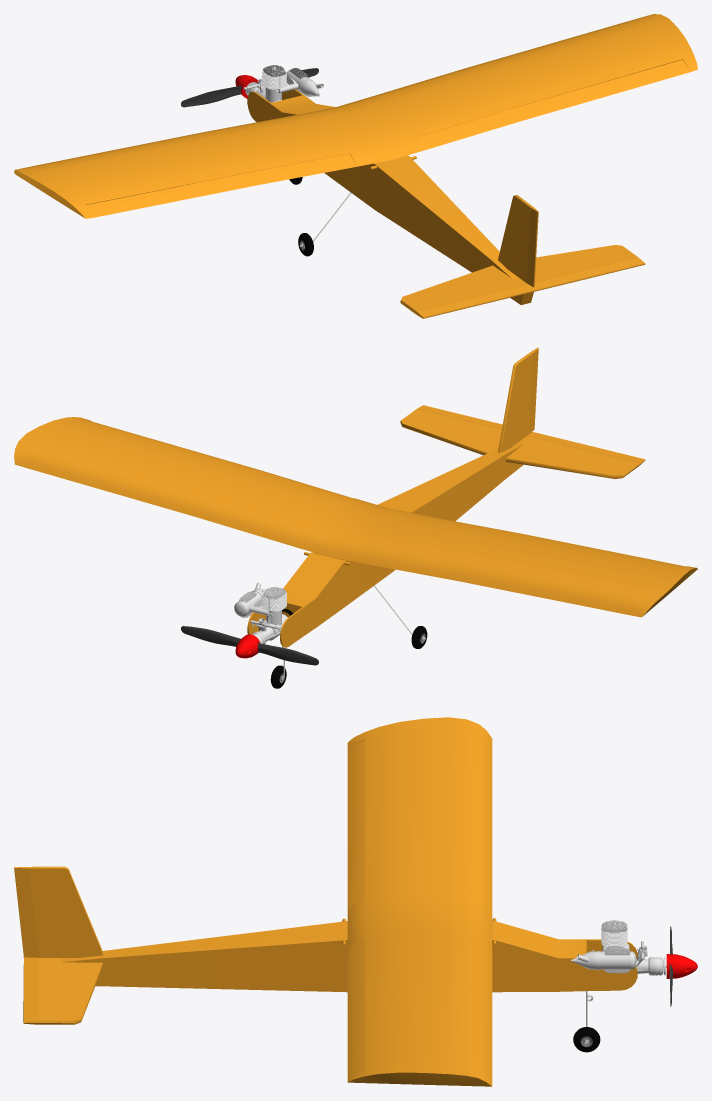
3 views of the same model, one above another, from view 1: azimuth 30°, elevation 25°; view 2: azimuth 150°, elevation 25°; view 3: azimuth 270°, elevation 25° (orthographic). The views are drawn at different scales.
Visible parts, largest first — view 1: Aviao, Plane.003, Prop; view 2: Aviao, Prop, Plane.003; view 3: Aviao, Plane.003, FrontWheel, Spinner.
Part boxes in pixels (x1,y1,x2,y2): Aviao: [14, 14, 697, 318]; Plane.003: [243, 66, 323, 102]; Prop: [181, 68, 318, 107]; Aviao: [14, 347, 697, 648]; Prop: [181, 626, 318, 665]; Plane.003: [234, 582, 287, 644]; Aviao: [14, 717, 637, 1086]; Plane.003: [571, 922, 666, 975]; FrontWheel: [573, 991, 600, 1052]; Spinner: [666, 954, 697, 978].
Bounding box in the file's own units: 533 × 126 × 432.
